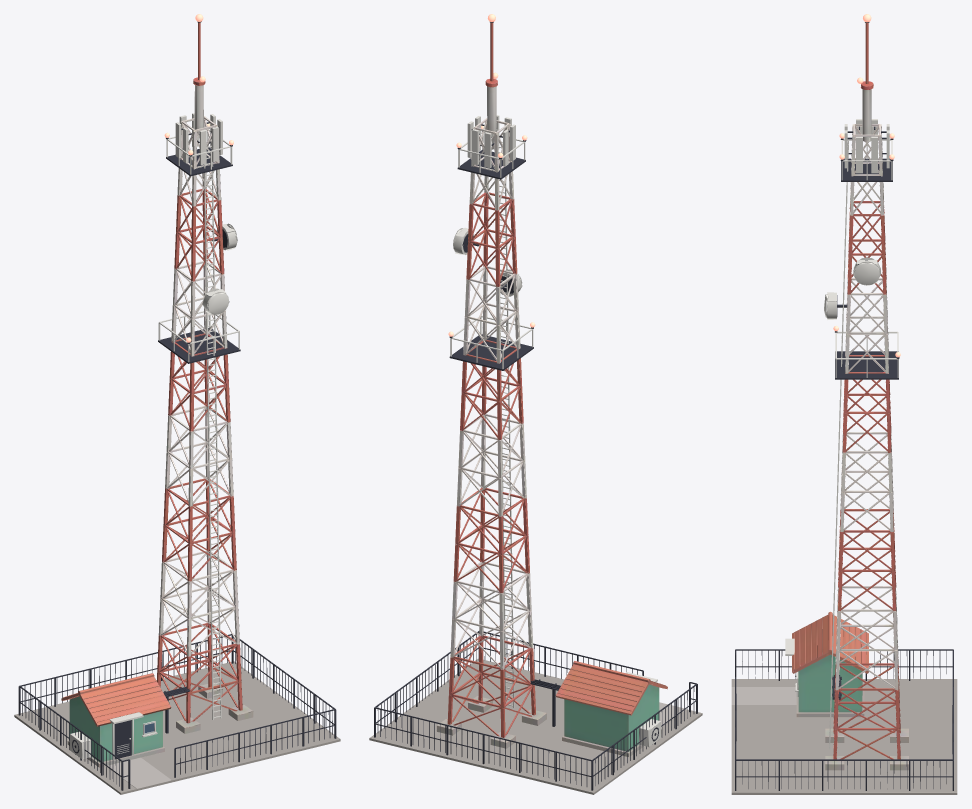
Rendered from radio-tower.glb.
The picture shows the model from 3 angles, left to right: view 1: azimuth 30°, elevation 25°; view 2: azimuth 150°, elevation 25°; view 3: azimuth 270°, elevation 25°; orthographic projection. The views are drawn at different scales.
Visible parts, largest first — view 1: radio-tower_antennas, radio-tower_body; view 2: radio-tower_body, radio-tower_antennas; view 3: radio-tower_antennas, radio-tower_body.
Boxes of the visible parts, x1,y1,x2,y2 form: radio-tower_antennas: (14, 21, 340, 794); radio-tower_body: (61, 22, 253, 767); radio-tower_body: (436, 22, 667, 757); radio-tower_antennas: (369, 22, 702, 794); radio-tower_antennas: (731, 22, 957, 794); radio-tower_body: (792, 23, 908, 770).
Bounding box in the file's own units: 12.5 × 37.95 × 10.5.
Materials: 3 (3 with a texture image).
